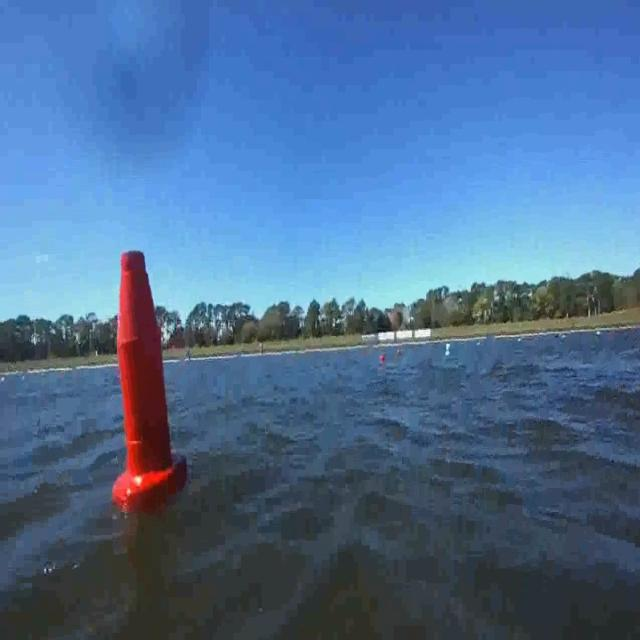red-column-buoy: (114, 249, 186, 514)
